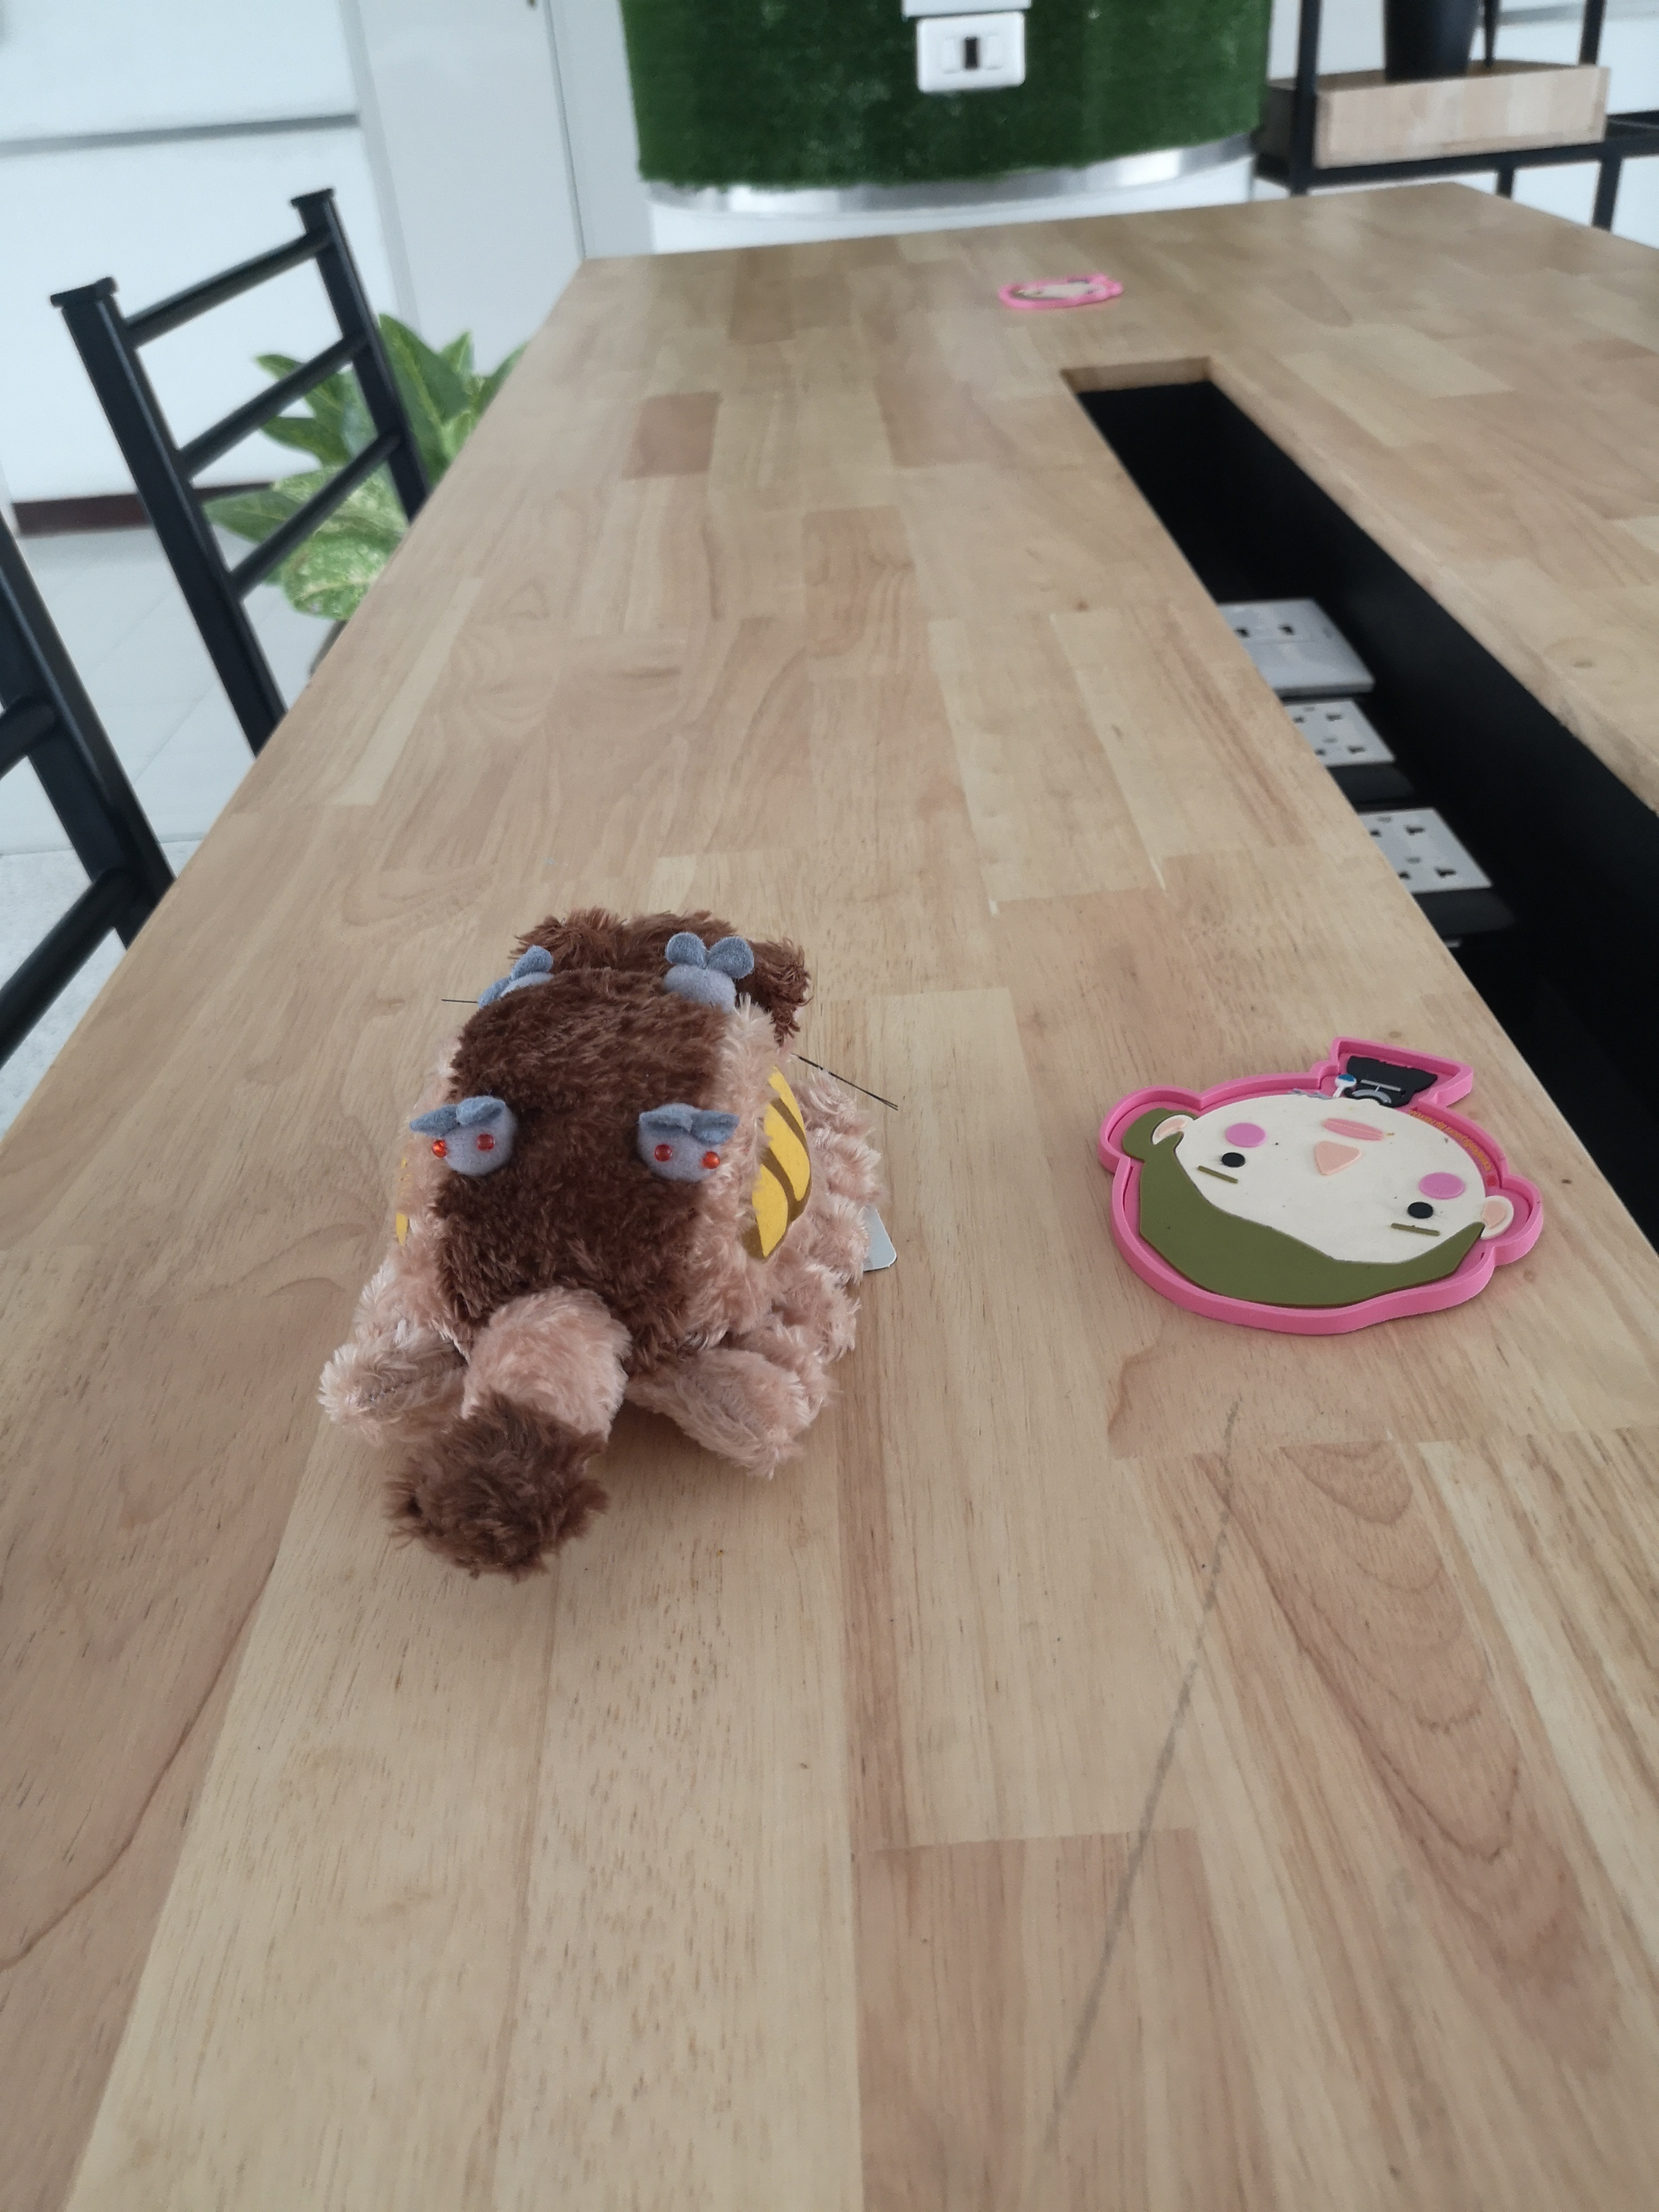nekobus: (300, 890, 908, 1588)
